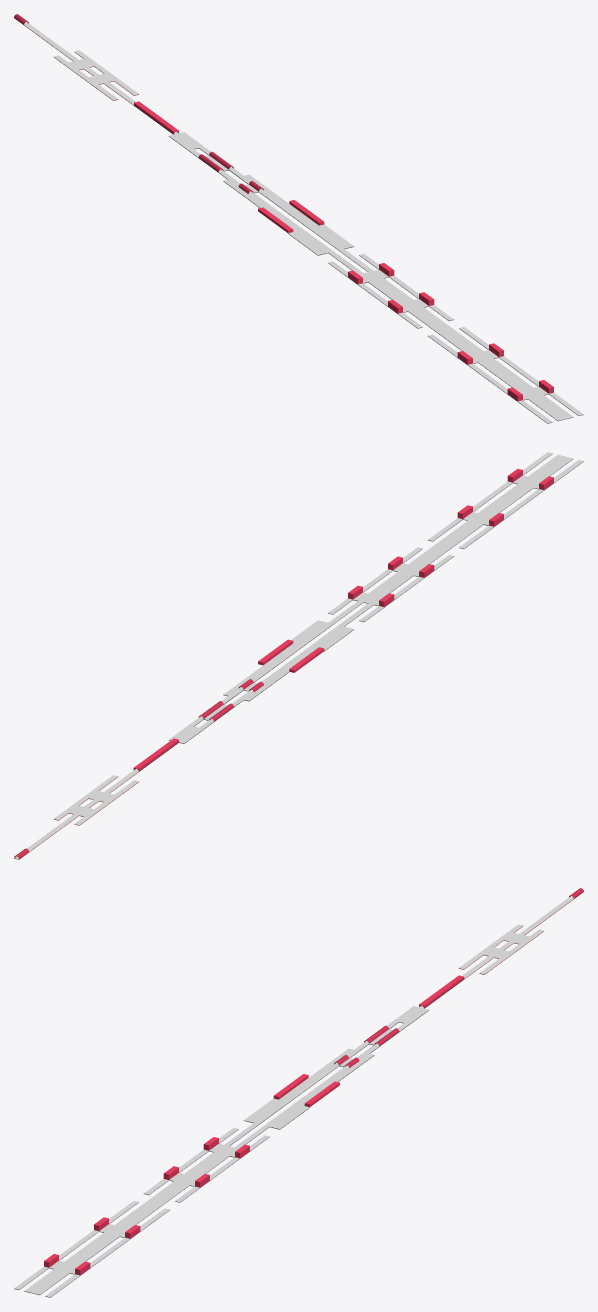
Rendered from Level11.FBX.
3 views of the same model, one above another, from view 1: azimuth 30°, elevation 25°; view 2: azimuth 150°, elevation 25°; view 3: azimuth 330°, elevation 25° (orthographic).
Visible parts, largest first — view 1: basePlatform, Obsticles; view 2: basePlatform, Obsticles; view 3: basePlatform, Obsticles.
Boxes of the visible parts, x1,y1,x2,y2 form: basePlatform: (24, 22, 583, 423); Obsticles: (14, 14, 553, 401); basePlatform: (15, 452, 583, 858); Obsticles: (14, 468, 553, 858); basePlatform: (14, 896, 573, 1297); Obsticles: (44, 888, 583, 1275).
Bounding box in the file's own units: 26.29 × 4.14 × 688.
